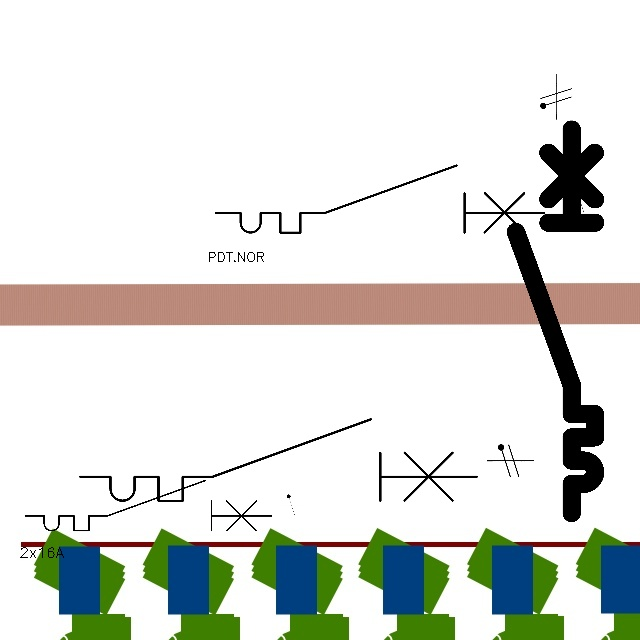interruptor_termomagnetico: (70, 409, 487, 511), (506, 119, 605, 522), (207, 157, 553, 241), (19, 474, 277, 537)
